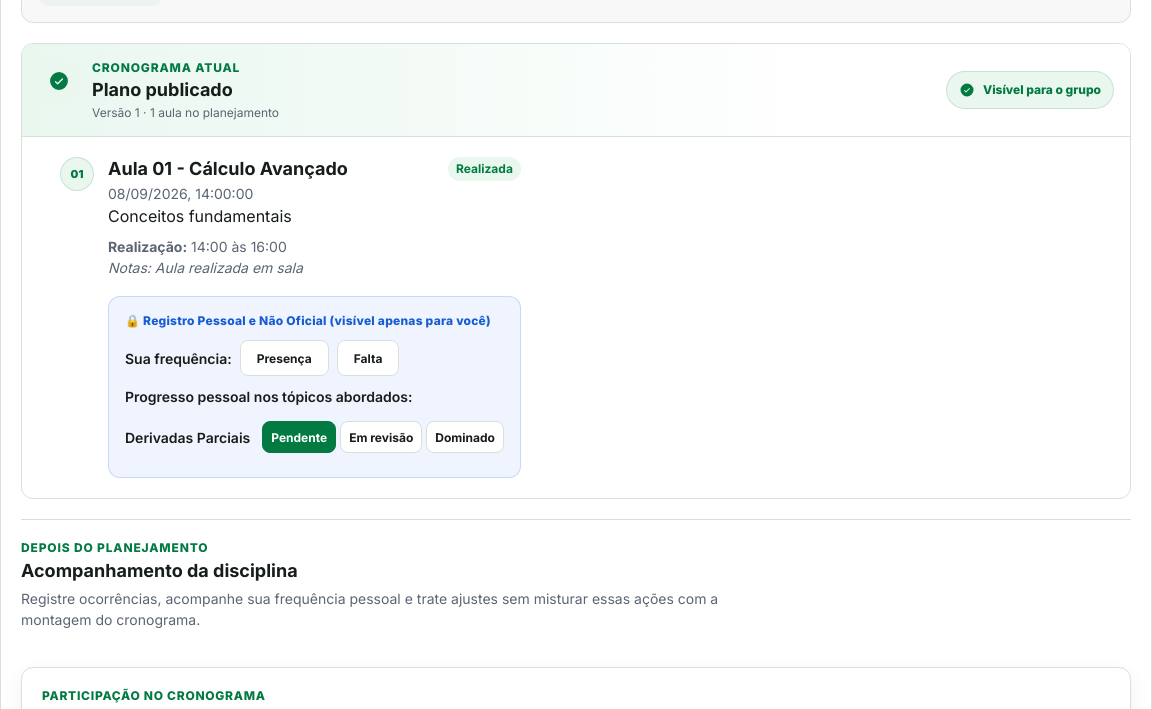
GroupSchedule - Occurrences and Attendance UI › renderiza status Realizada e permite ao aluno registrar presença privada e progresso
The width and height of the screenshot is (1152, 709).
(page scrolled)
Expected: the heading "Aula 01 - Cálculo Avançado" is shown, x1=108 y1=157 x2=348 y2=181
Expected: the text "Realizada" is shown, x1=448 y1=157 x2=521 y2=181
Note: Student clicks "Presença"
Click the button "Presença" at (284, 358), box x1=240 y1=340 x2=329 y2=376
(page scrolled)
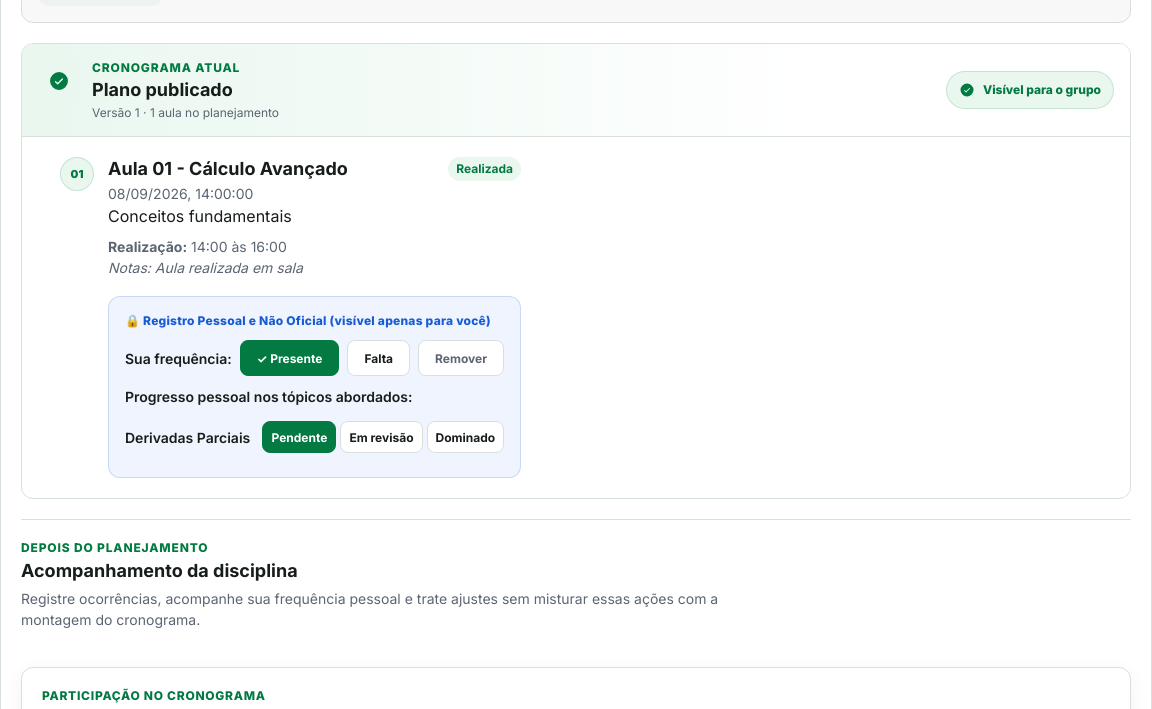
Note: Topic progress: Student clicks "Dominado"
Click the button "Dominado" at (465, 437), box x1=426 y1=421 x2=504 y2=453
(page scrolled)
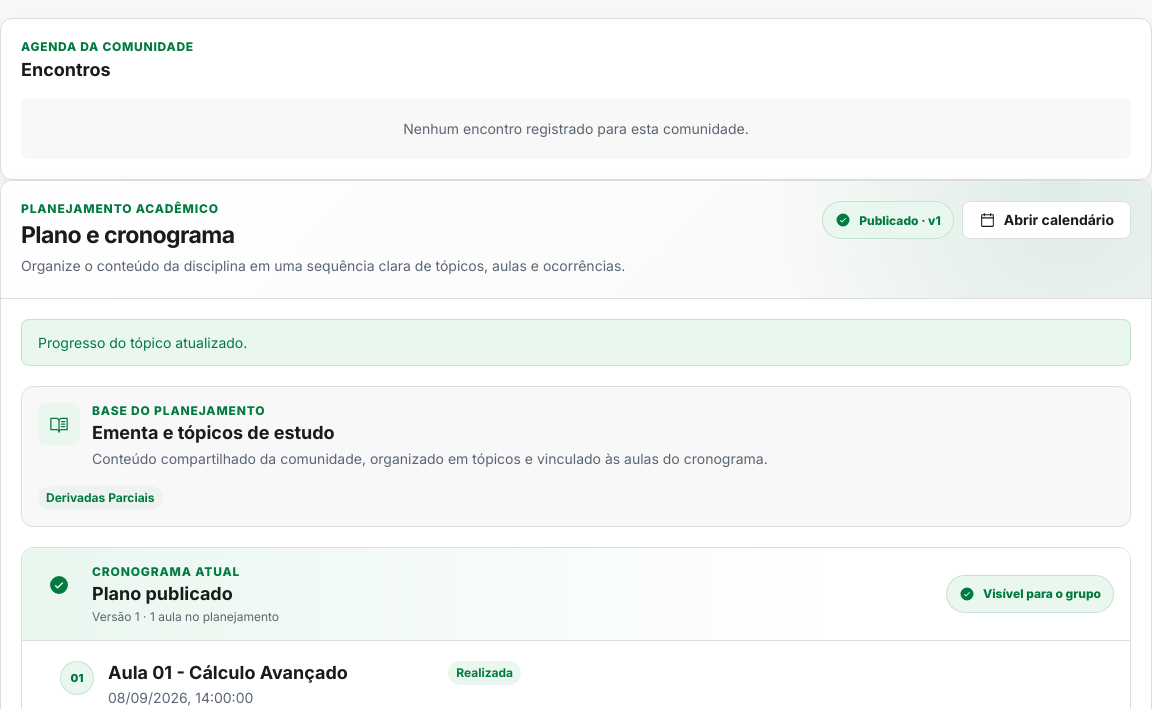
Expected: the text "Progresso do tópico atualizado." is shown, x1=21 y1=319 x2=1131 y2=366
